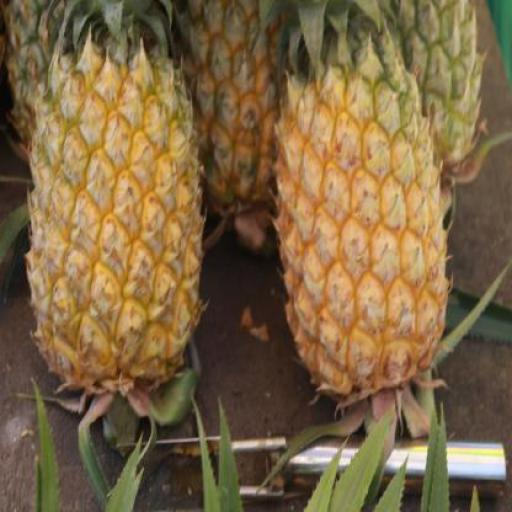Pineapple - v8 v1: (28, 48, 202, 390), (278, 78, 451, 404)
